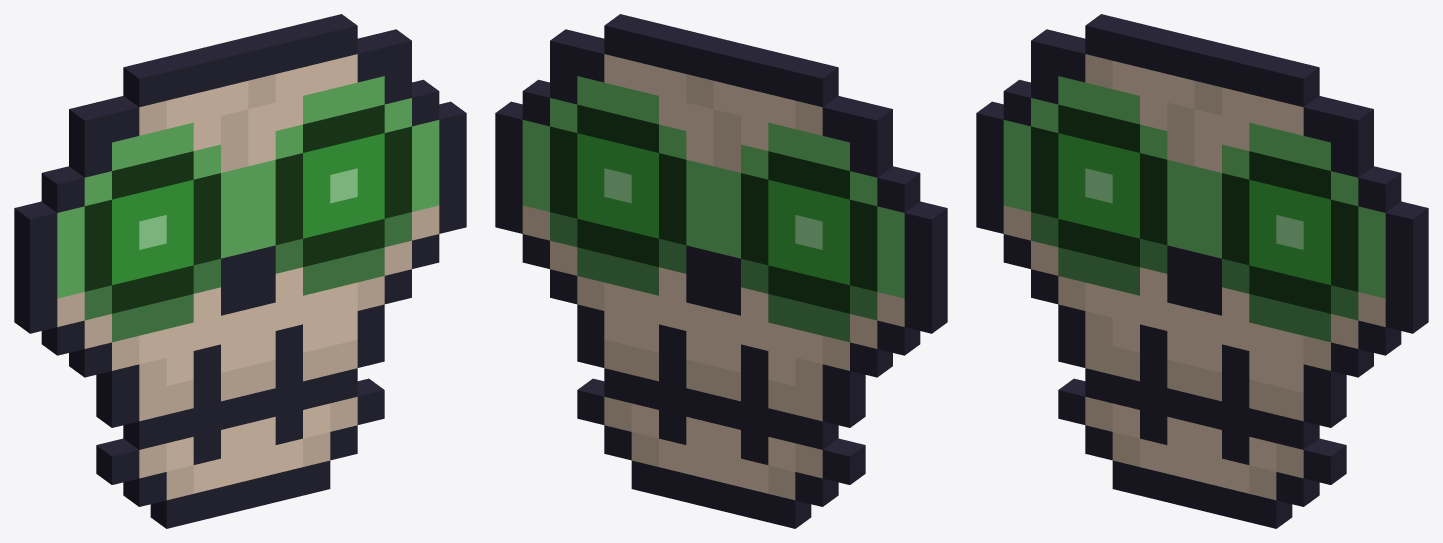
Rendered from Chaos Potion.glb.
3 views of the same model, side by side, from view 1: azimuth 30°, elevation 25°; view 2: azimuth 150°, elevation 25°; view 3: azimuth 330°, elevation 25° (orthographic).
Parts seen in each view (by area): view 1: Untitled; view 2: Untitled; view 3: Untitled.
Boxes of the visible parts, bbox=[...] form: Untitled: bbox=[14, 14, 466, 528]; Untitled: bbox=[495, 14, 947, 528]; Untitled: bbox=[976, 14, 1428, 528].
Size of the model in its own units: 9.6 by 9.6 by 0.6.
Materials: 1 (1 with a texture image).
